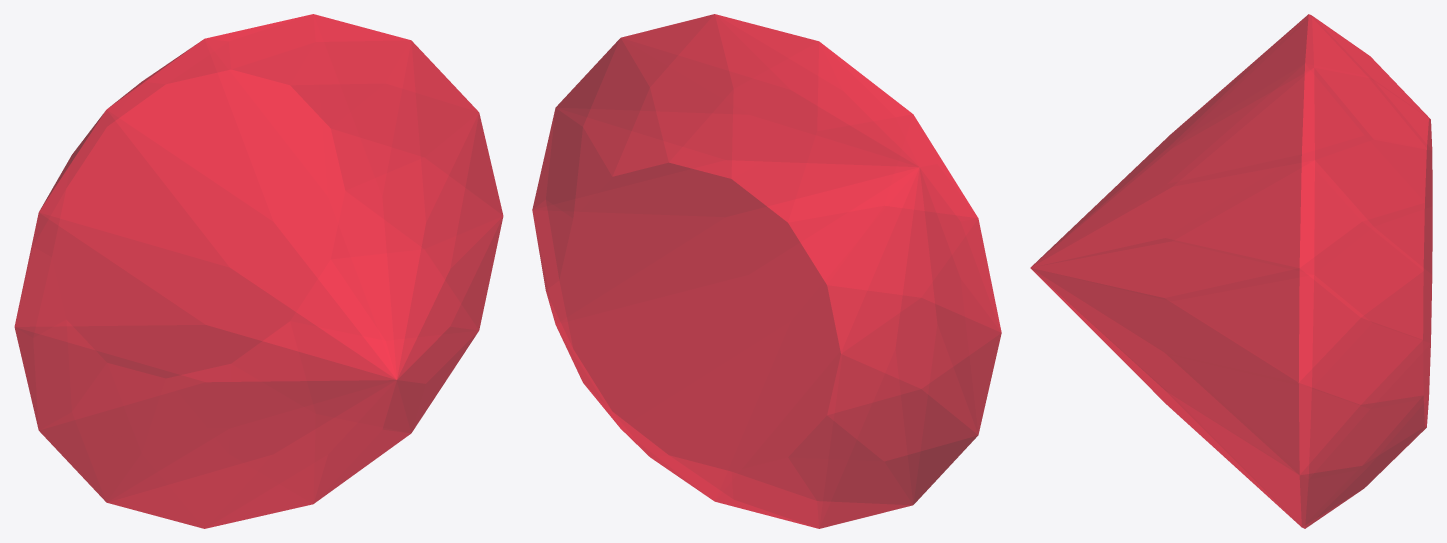
Rendered from gem1.fbx.
3 renders of one model, left to right at view 1: azimuth 30°, elevation 25°; view 2: azimuth 150°, elevation 25°; view 3: azimuth 270°, elevation 25°, orthographic. The views are drawn at different scales.
Parts seen in each view (by area): view 1: Gem.001; view 2: Gem.001; view 3: Gem.001.
Part boxes in pixels (x1,y1,x2,y2): Gem.001: (14, 14, 503, 528); Gem.001: (532, 14, 1001, 528); Gem.001: (1030, 14, 1432, 528).
Size of the model in its own units: 175 by 171 by 134.
